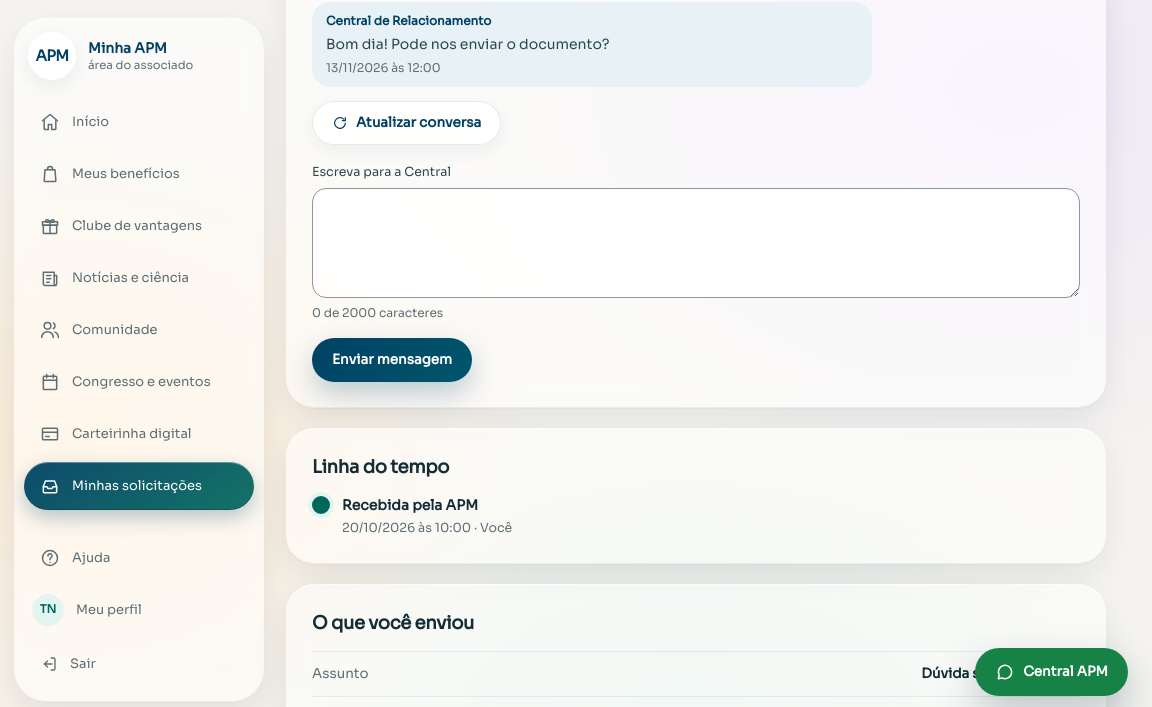
Minhas solicitações com a paridade ligada › detalhe: conversa, envio com chave de idempotência e releitura
(page scrolled)
Check: the text "Central de Relacionamento" is shown, box [326, 13, 491, 28]
Check: the text "13/11/2026 às 12:00" is shown, box [326, 59, 441, 77]
Click the button "Enviar mensagem".
click(392, 360)  # box [312, 338, 472, 382]
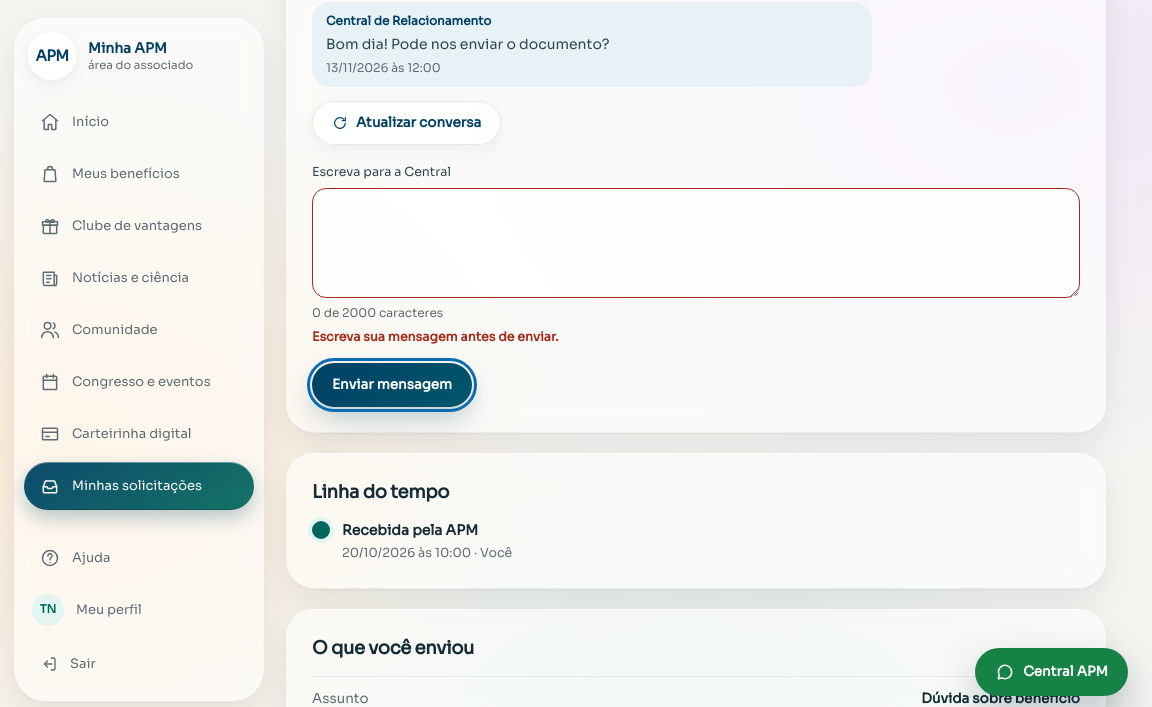
Check: the text "Escreva sua mensagem antes de enviar." is shown, box [312, 329, 559, 345]
Type " Segue o documento. " into the text box labelled "Escreva para a Central".
click(696, 243); type(" Segue o documento. ")  # box [312, 188, 1080, 298]
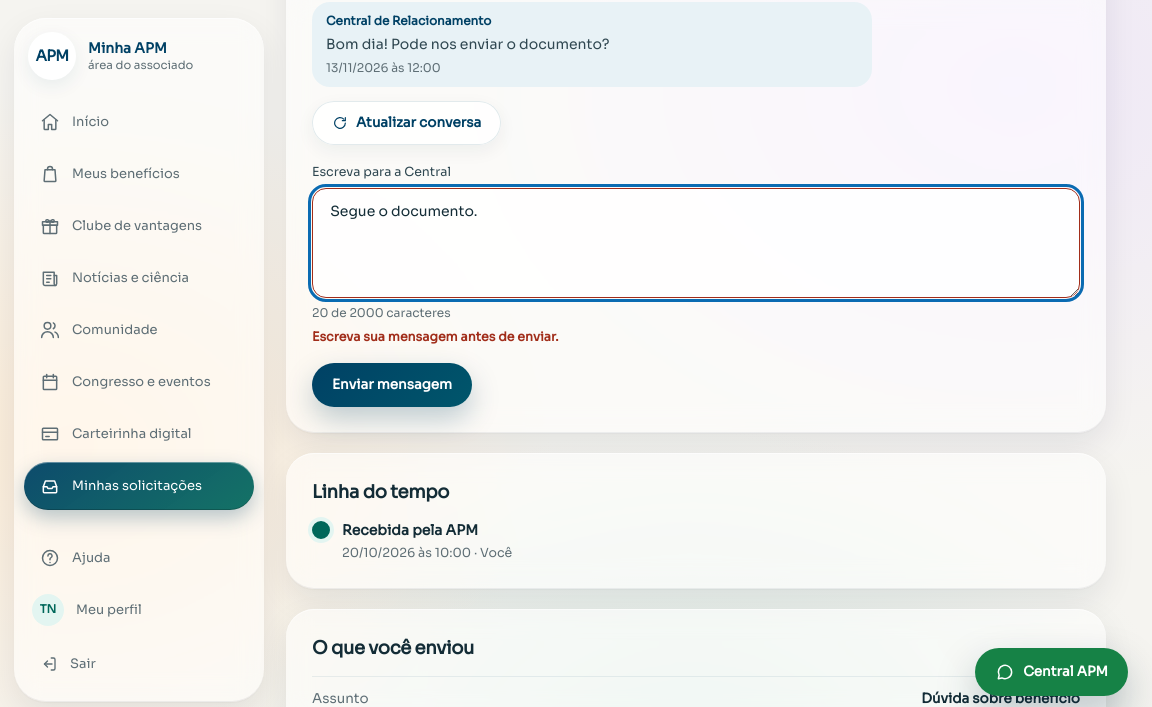
Click the button "Enviar mensagem".
click(392, 385)  # box [312, 363, 472, 407]
(page scrolled)
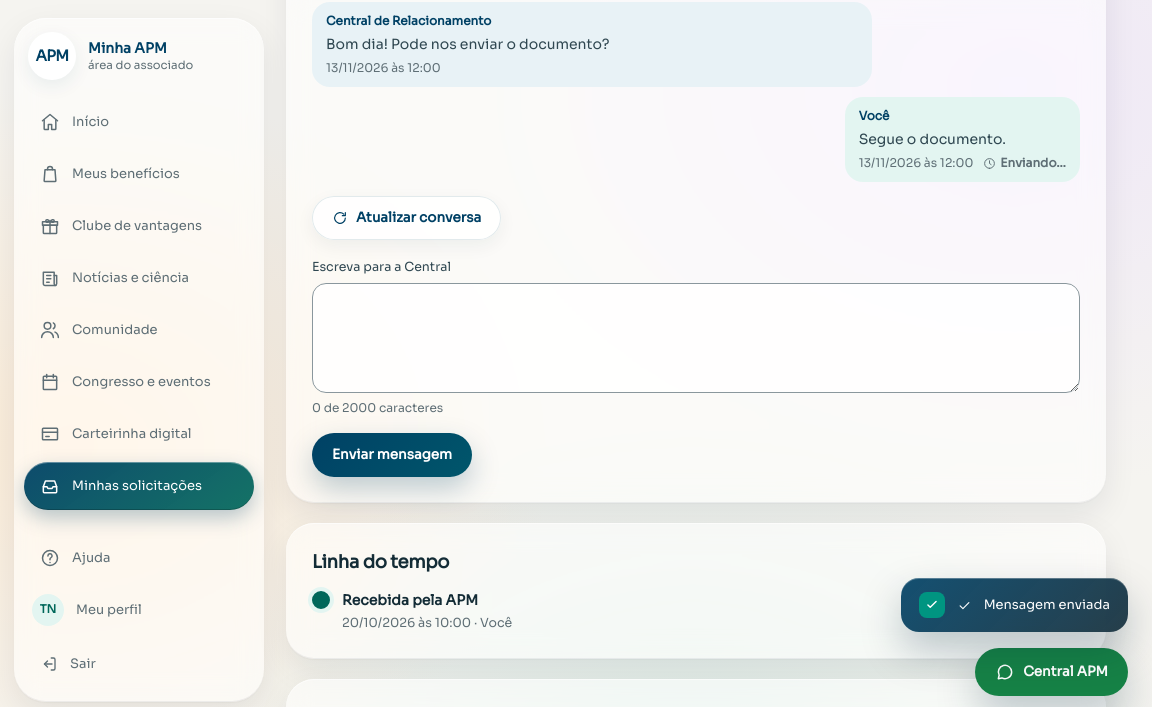
Check: the text "Segue o documento." is shown, box [859, 130, 1006, 148]
Check: the text "Você" is shown, box [859, 108, 890, 123]
Check: the text "Enviando…" is shown, box [983, 154, 1066, 172]
